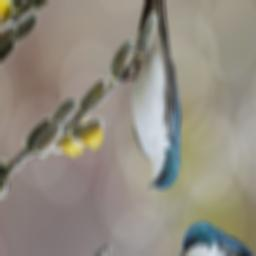Swallow: (81, 0, 233, 203)
